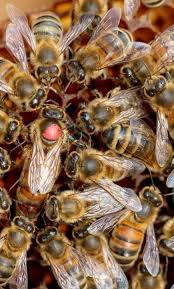Queen-Bee: (13, 96, 75, 220)
worker-bee: (77, 88, 171, 170), (7, 4, 93, 84), (88, 186, 162, 275), (66, 7, 150, 82), (65, 149, 143, 210), (36, 227, 111, 288), (0, 23, 46, 110), (102, 118, 171, 171), (73, 221, 127, 288), (77, 88, 143, 134), (45, 186, 123, 223), (144, 73, 173, 166), (0, 217, 33, 287), (72, 0, 107, 36), (120, 54, 155, 86), (131, 262, 165, 288), (124, 0, 165, 19), (0, 109, 22, 143), (73, 0, 107, 21), (159, 218, 174, 257), (0, 187, 11, 215), (0, 147, 10, 174)
